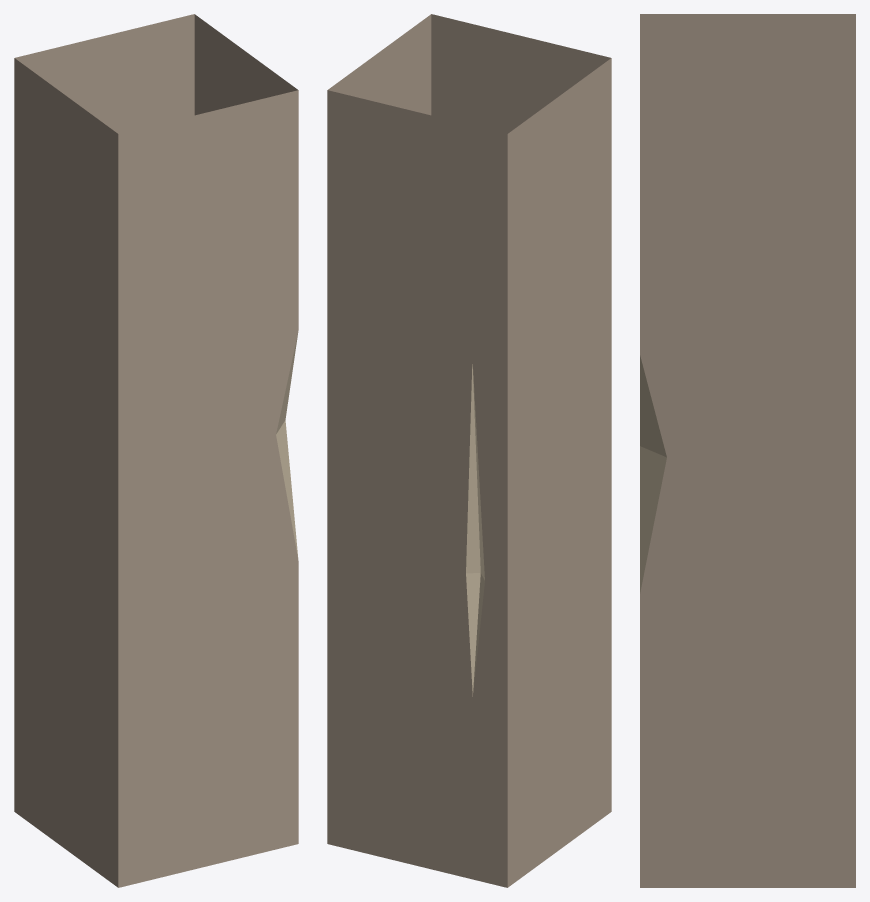
File: Cave_Prop_Support_Wall_Pillar_1.glb
The picture shows the model from 3 angles, left to right: view 1: azimuth 30°, elevation 25°; view 2: azimuth 150°, elevation 25°; view 3: azimuth 270°, elevation 25°; orthographic projection. The views are drawn at different scales.
Parts seen in each view (by area): view 1: Cave_Prop_Support_Wall_Pillar_1; view 2: Cave_Prop_Support_Wall_Pillar_1; view 3: Cave_Prop_Support_Wall_Pillar_1.
Boxes of the visible parts, <box> form: Cave_Prop_Support_Wall_Pillar_1: <box>14,14,298,887</box>; Cave_Prop_Support_Wall_Pillar_1: <box>327,14,611,887</box>; Cave_Prop_Support_Wall_Pillar_1: <box>640,14,855,887</box>.
Size of the model in its own units: 0.07 by 0.28 by 0.07.
